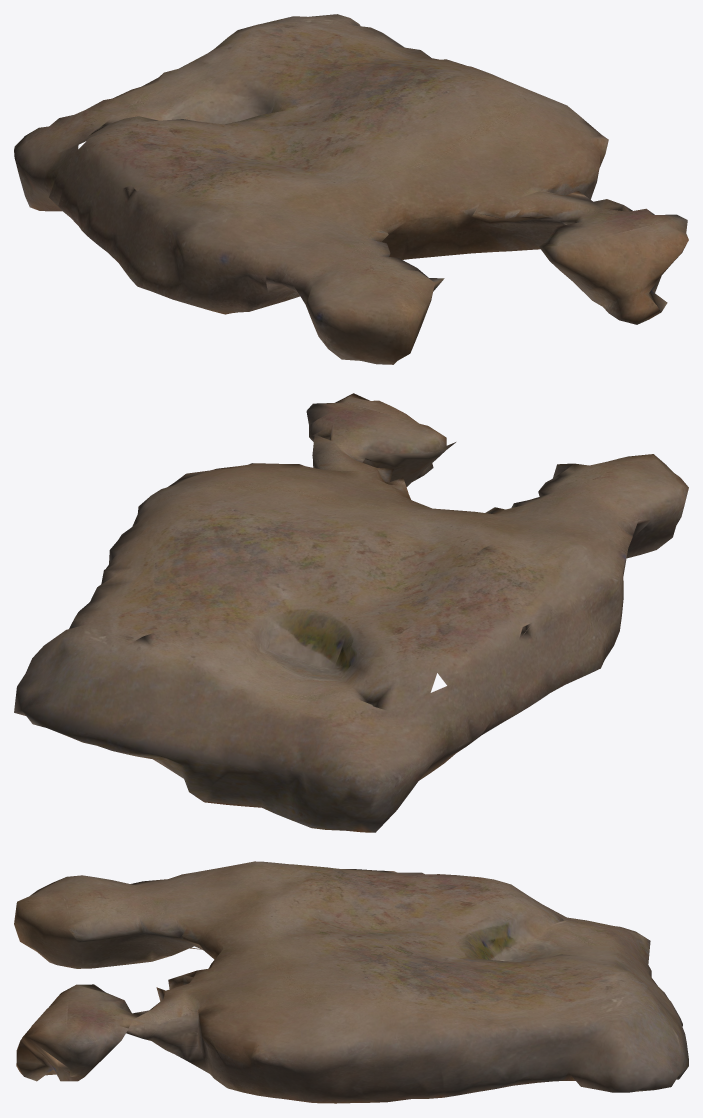
The picture shows the model from 3 angles, top to bottom: view 1: azimuth 30°, elevation 25°; view 2: azimuth 150°, elevation 25°; view 3: azimuth 270°, elevation 25°; orthographic projection. The views are drawn at different scales.
Parts seen in each view (by area): view 1: file1; view 2: file1; view 3: file1.
Part boxes in pixels (x1,y1,x2,y2): file1: [14, 14, 688, 364]; file1: [14, 393, 688, 832]; file1: [14, 861, 688, 1103].
Bounding box in the file's own units: 0.0325 × 0.0111 × 0.0459.
1 material, 1 textured.
